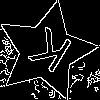K: (21, 26, 75, 83)
